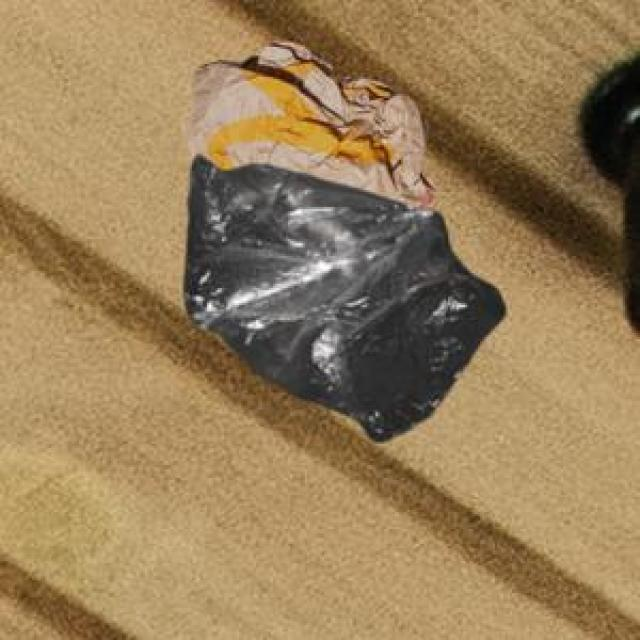paper: (184, 38, 431, 207)
